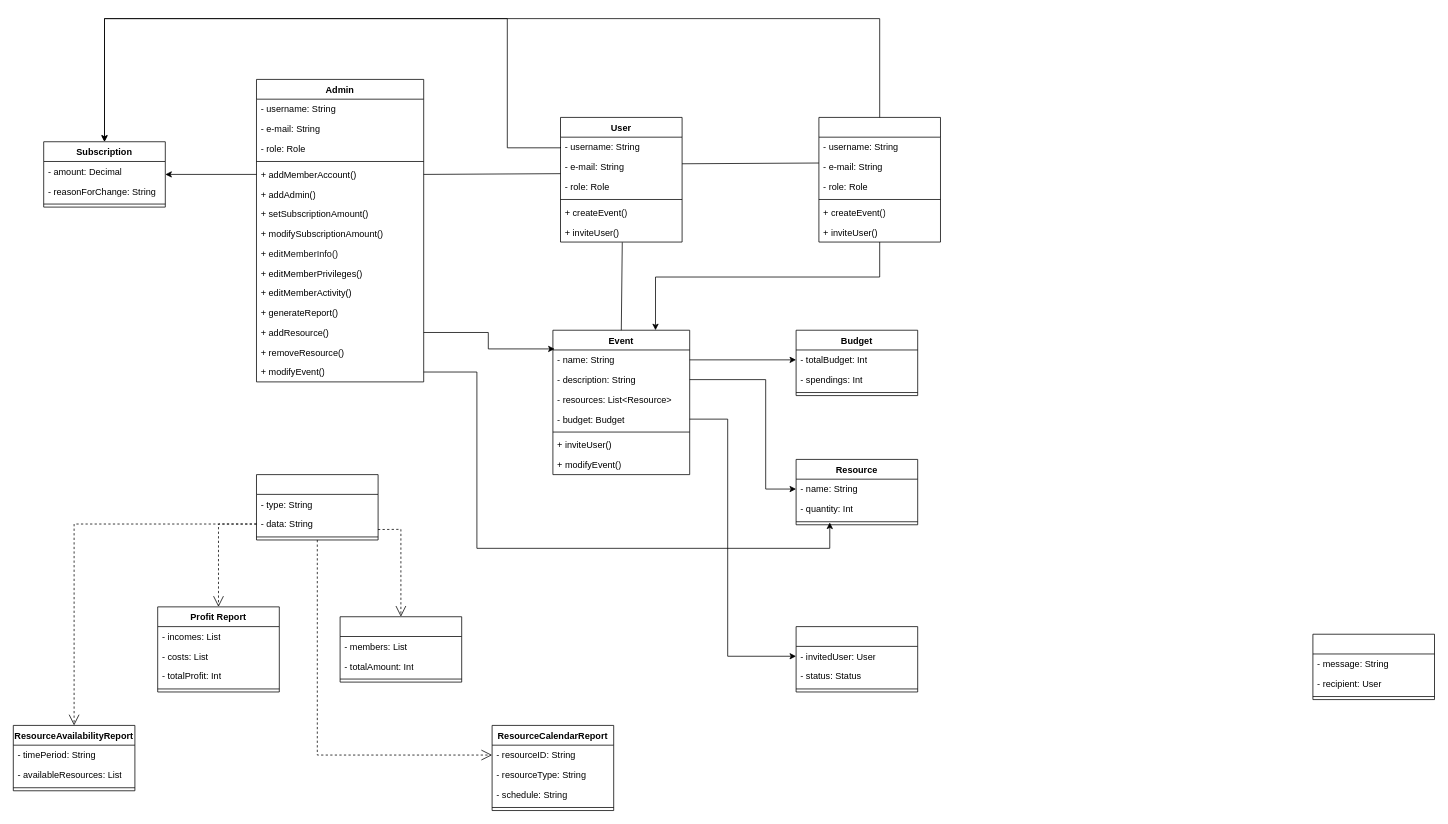
Some shapes in this 1448 by 824 pixel diagram are drawn without their labels. The shapes that lost their labels are listed below. From the top down, each one's box as (x1, y1, x2, y2) in pixels, then its label:
(818, 117, 940, 242): Member
(256, 474, 378, 540): Report
(339, 616, 462, 682): PaymentReport
(795, 626, 918, 692): Invitation
(1312, 633, 1434, 700): Notification
